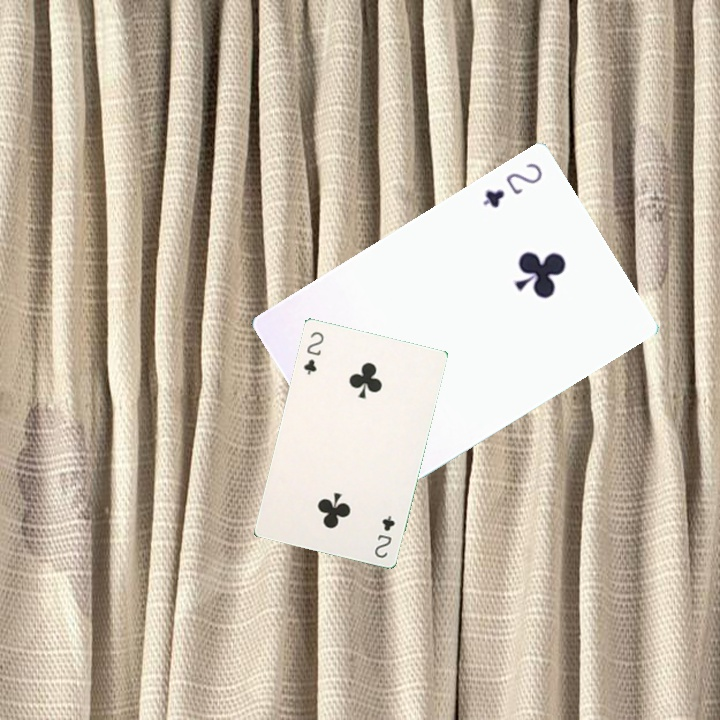2c: (478, 158, 546, 211), (370, 512, 398, 561), (299, 327, 326, 377)
